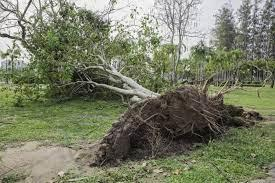Downstairs: (20, 3, 229, 166)
